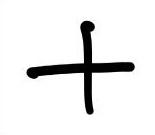plus: (23, 21, 136, 116)
